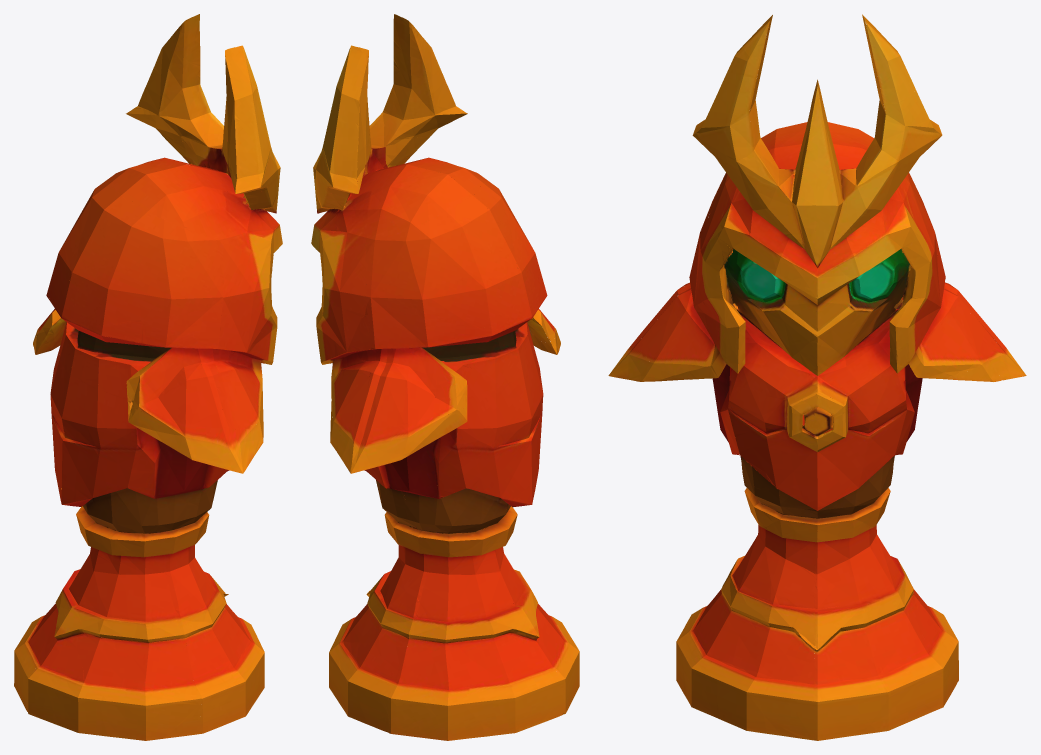
The picture shows the model from 3 angles, left to right: view 1: azimuth 30°, elevation 25°; view 2: azimuth 150°, elevation 25°; view 3: azimuth 270°, elevation 25°; orthographic projection. The views are drawn at different scales.
Visible parts, largest first — view 1: tripo_node_6169b9d9-95f2-411a-a542-b074b944b315; view 2: tripo_node_6169b9d9-95f2-411a-a542-b074b944b315; view 3: tripo_node_6169b9d9-95f2-411a-a542-b074b944b315.
Boxes of the visible parts, <box> form: tripo_node_6169b9d9-95f2-411a-a542-b074b944b315: <box>14,14,282,740</box>; tripo_node_6169b9d9-95f2-411a-a542-b074b944b315: <box>311,14,579,740</box>; tripo_node_6169b9d9-95f2-411a-a542-b074b944b315: <box>608,14,1026,740</box>.
Size of the model in its own units: 0.4077 by 1 by 0.5384.
1 material, 1 textured.
